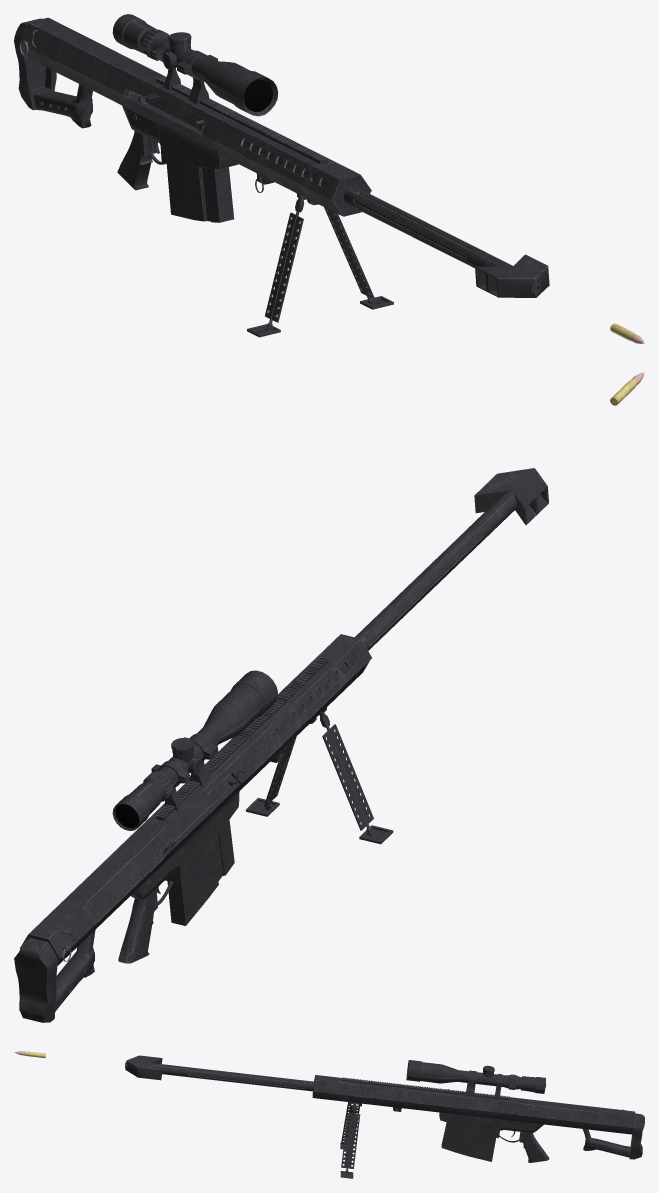
Rendered from barrett_50.cal_textured.glb.
3 renders of one model, top to bottom at view 1: azimuth 30°, elevation 25°; view 2: azimuth 150°, elevation 25°; view 3: azimuth 270°, elevation 25°, orthographic. The views are drawn at different scales.
Parts seen in each view (by area): view 1: NGon002, Box002, Cylinder008, Cylinder001, Rectangle001, OilTank002; view 2: NGon002, Box002, Cylinder008, Cylinder001, Rectangle001; view 3: NGon002, Box002, Cylinder008, Cylinder001, Rectangle001.
Boxes of the visible parts, left/top/right/bottom form: NGon002: left=14, top=17, right=371, bottom=216; Box002: left=117, top=105, right=238, bottom=222; Cylinder008: left=112, top=14, right=278, bottom=116; Cylinder001: left=343, top=186, right=549, bottom=297; Rectangle001: left=247, top=193, right=393, bottom=337; OilTank002: left=243, top=79, right=272, bottom=112; NGon002: left=14, top=634, right=371, bottom=1022; Box002: left=118, top=790, right=239, bottom=963; Cylinder008: left=112, top=670, right=277, bottom=830; Cylinder001: left=355, top=468, right=548, bottom=650; Rectangle001: left=245, top=707, right=393, bottom=844; NGon002: left=312, top=1075, right=644, bottom=1159; Box002: left=439, top=1112, right=549, bottom=1162; Cylinder008: left=406, top=1060, right=545, bottom=1099; Cylinder001: left=125, top=1055, right=314, bottom=1091; Rectangle001: left=340, top=1102, right=361, bottom=1178.
Size of the model in its own units: 1875 by 2865 by 14822.
7 materials, 6 textured.
